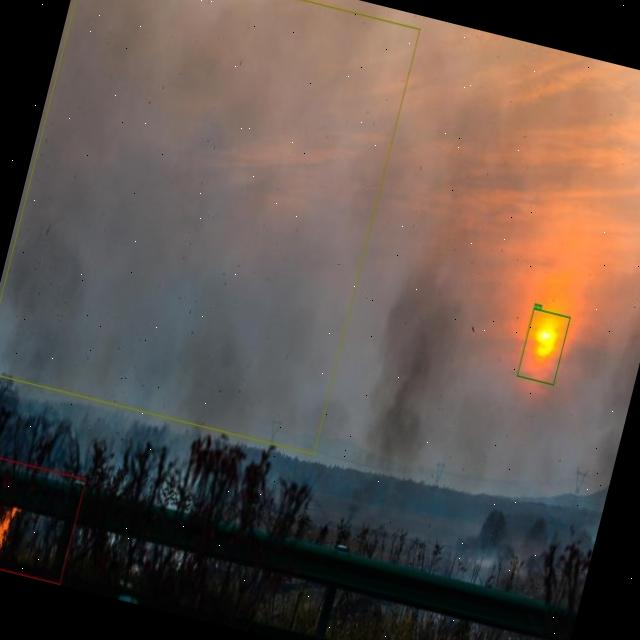fire: (0, 452, 85, 584)
smoke: (0, 0, 419, 454)
